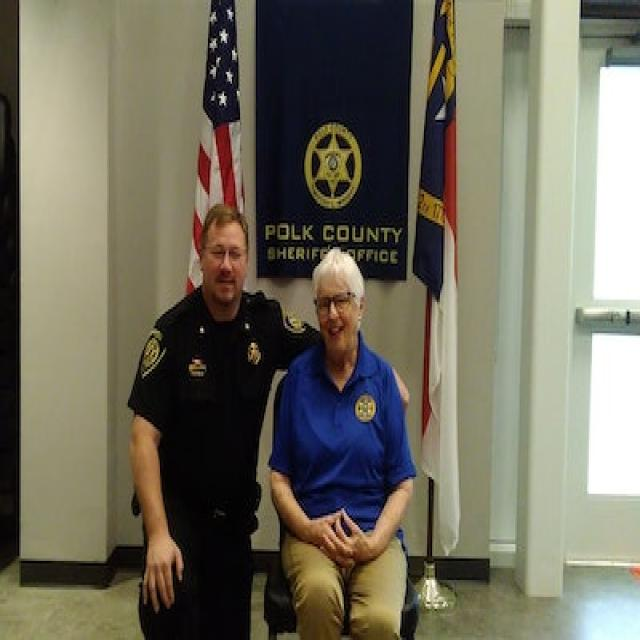police: (114, 195, 292, 619)
